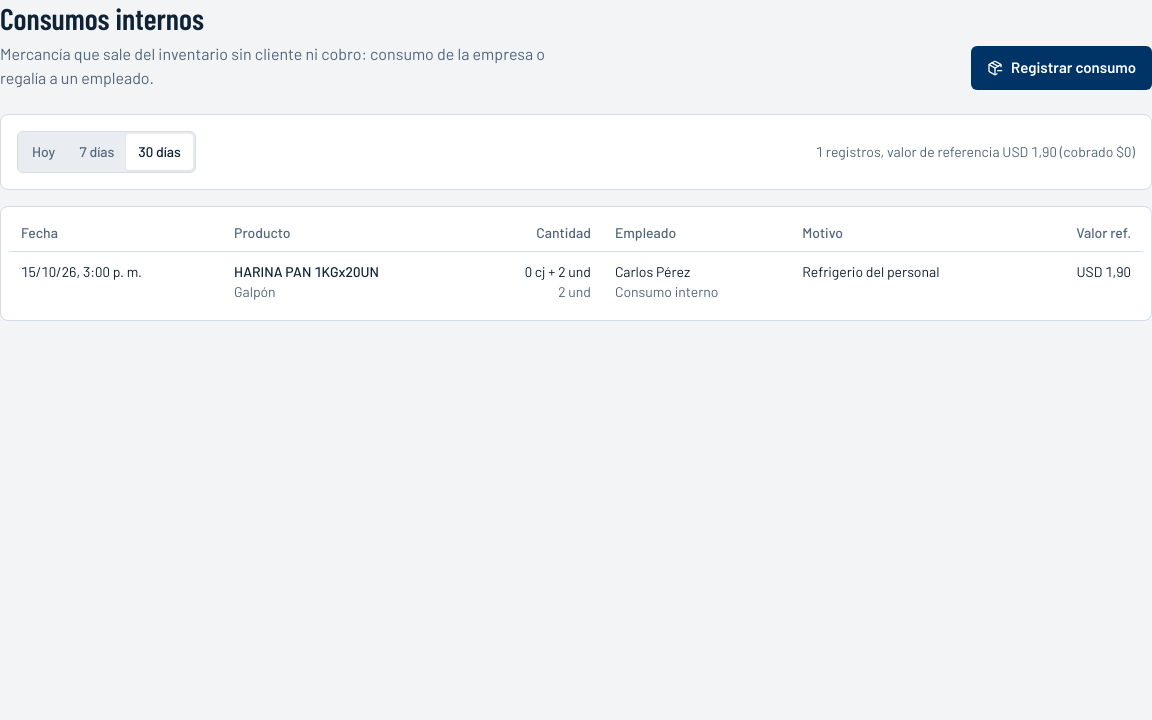
Consumos internos › desde un camión solo ofrece lo que lleva y muestra el error RFC 7807 de la API
Click the button "Registrar consumo" at x=1062, y=68, box top-left (971, 46), bottom-right (1151, 90)
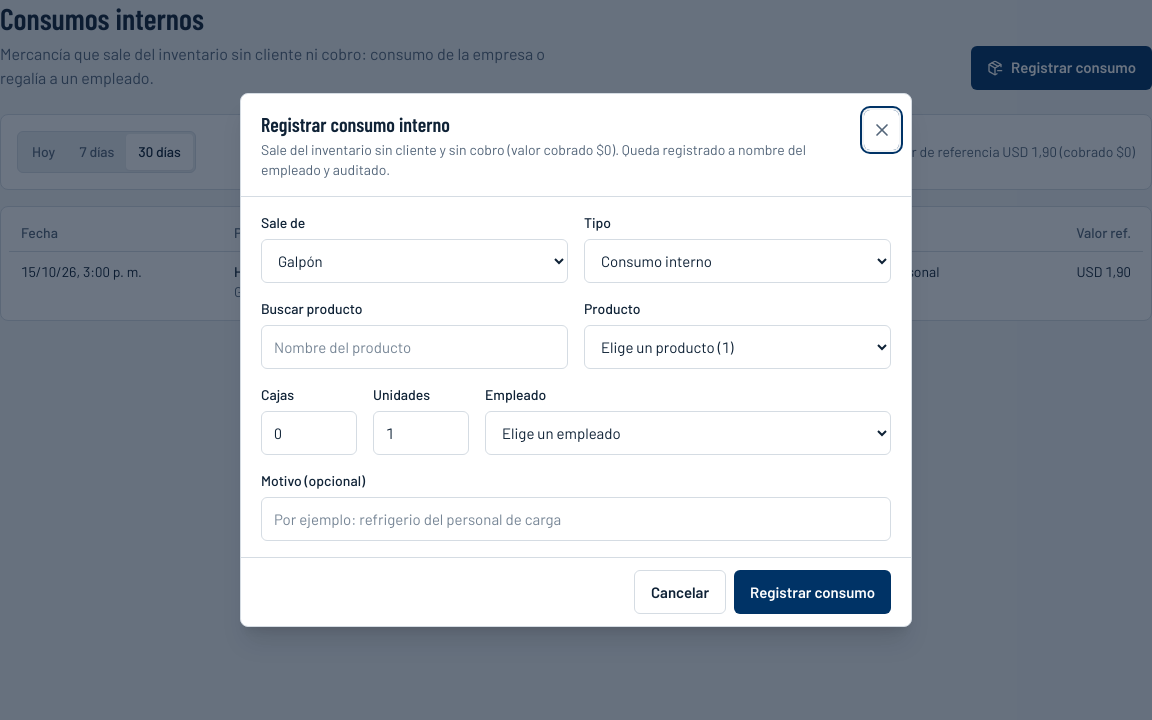
Select "Camión FVR" in the dropdown labelled "Sale de" at x=414, y=261, box top-left (261, 239), bottom-right (568, 283)
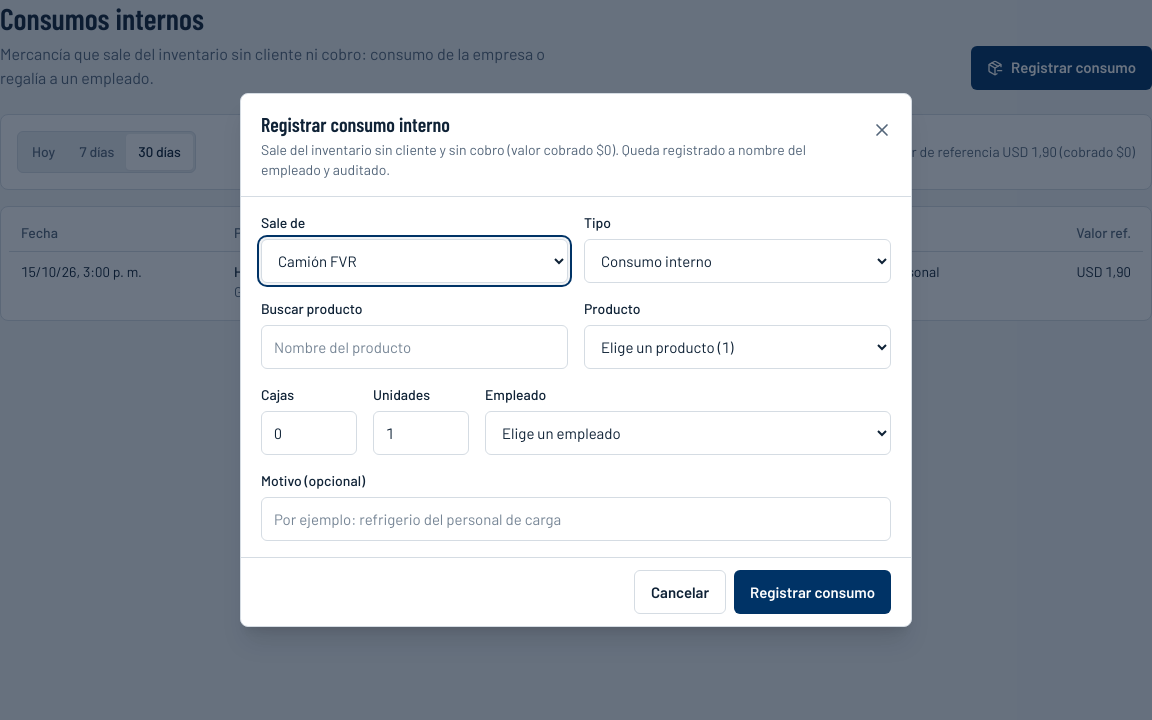
Select "POLAR PILSEN (3 cajas)" in the dropdown labelled "Producto" at x=738, y=347, box top-left (584, 325), bottom-right (891, 369)
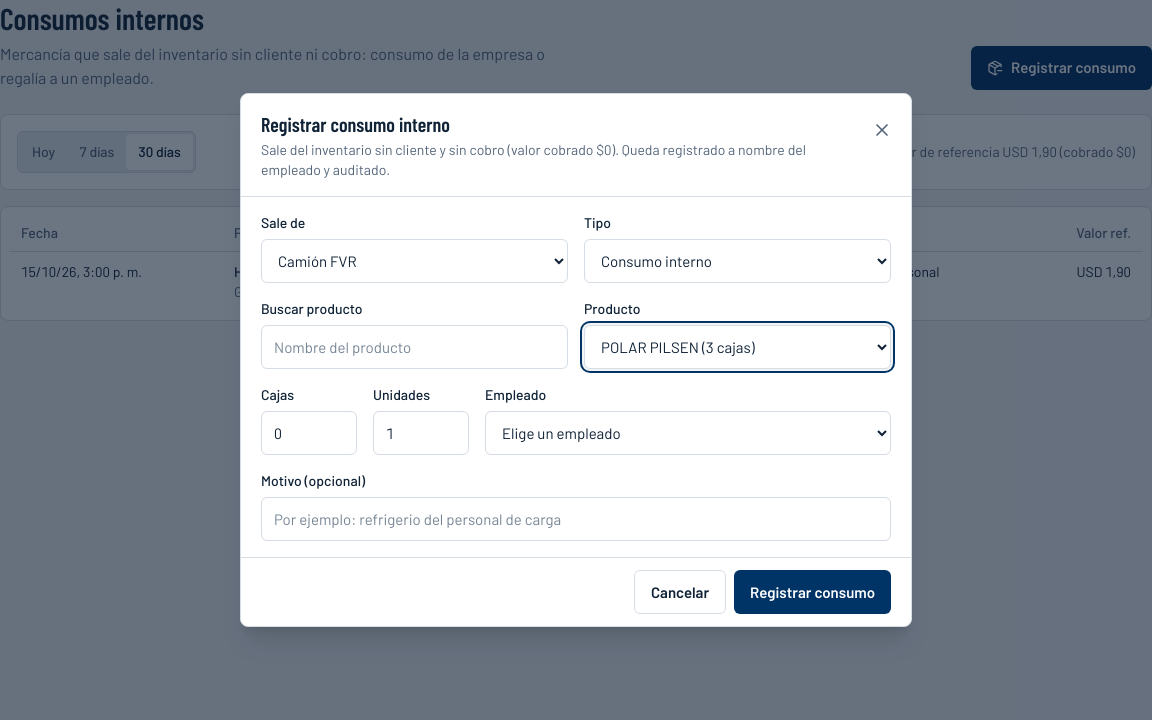
Select "Carlos Pérez (Vendedor)" in the dropdown labelled "Empleado" at x=688, y=433, box top-left (485, 411), bottom-right (891, 455)
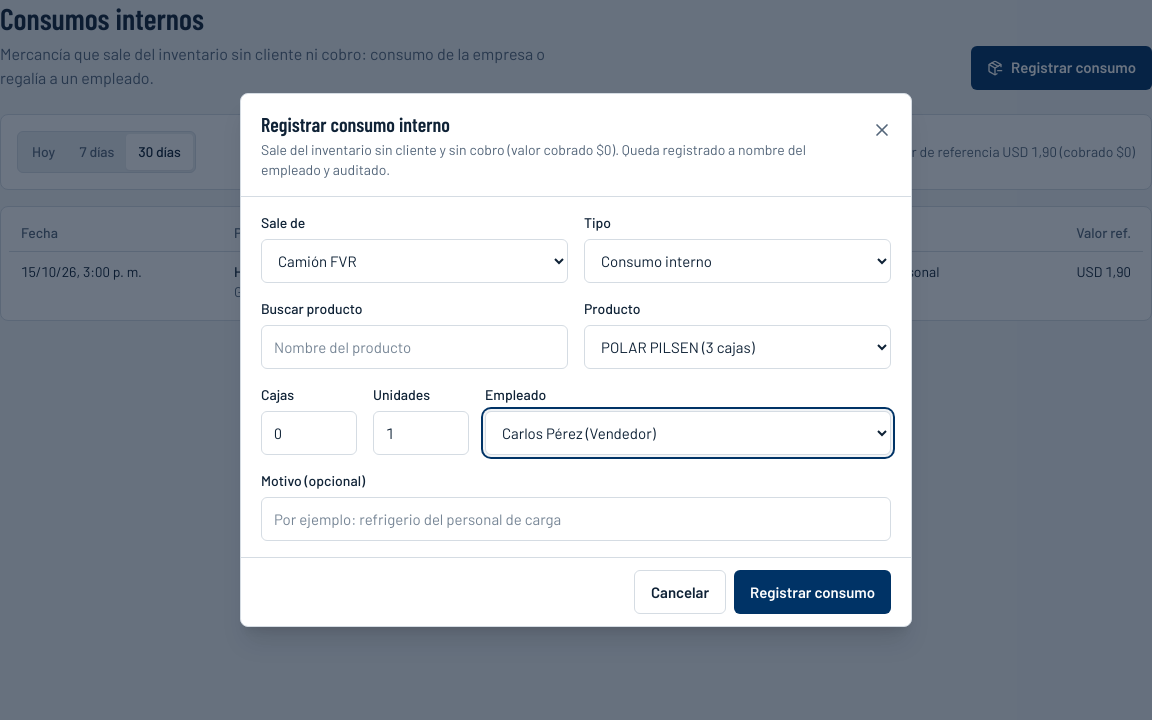
Click the button "Registrar consumo" at x=813, y=592, box top-left (734, 570), bottom-right (891, 614)
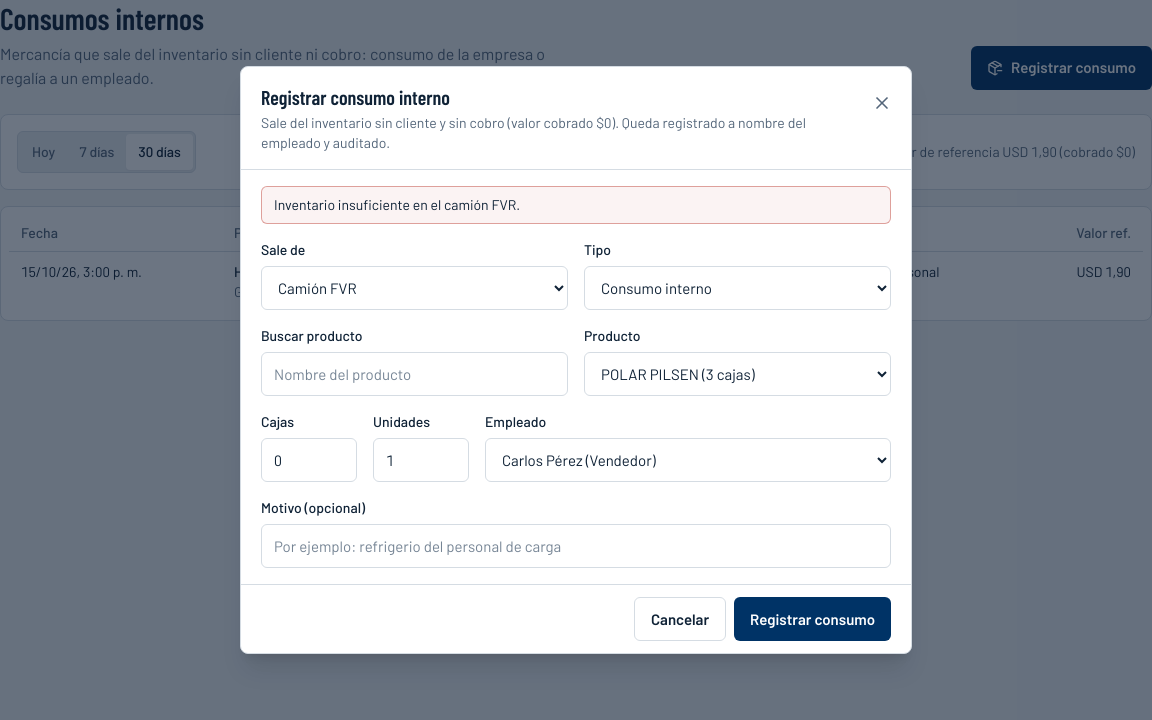
Check: the text "Inventario insuficiente en el camión FVR." is shown, box top-left (261, 186), bottom-right (891, 224)
